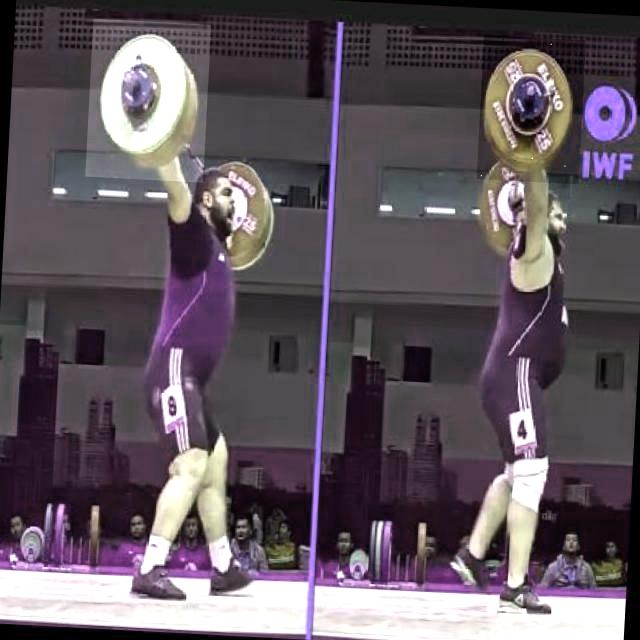barbell: (86, 20, 212, 183), (477, 37, 587, 186)
